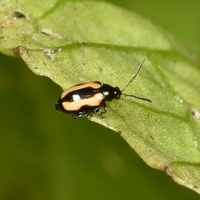insect: (55, 58, 151, 118)
